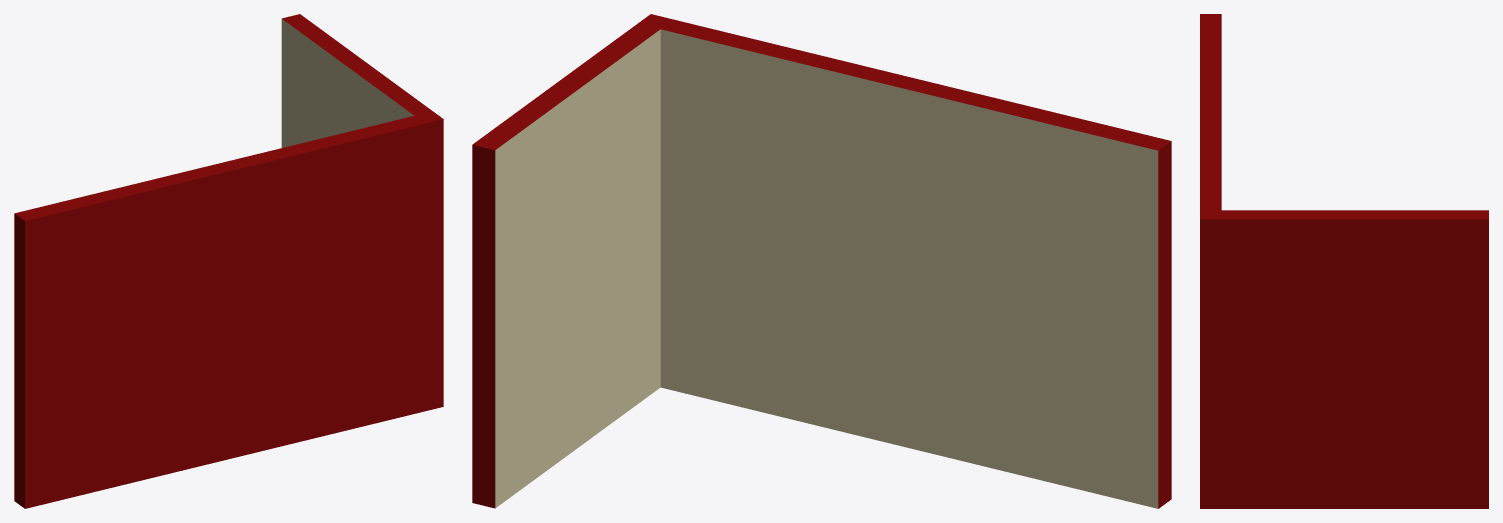
The model's file is Wall 5.fbx.
The picture shows the model from 3 angles, left to right: view 1: azimuth 30°, elevation 25°; view 2: azimuth 150°, elevation 25°; view 3: azimuth 270°, elevation 25°; orthographic projection. The views are drawn at different scales.
Parts seen in each view (by area): view 1: wall 5; view 2: wall 5; view 3: wall 5.
Boxes of the visible parts, x1,y1,x2,y2 form: wall 5: (14, 14, 443, 508); wall 5: (472, 14, 1171, 508); wall 5: (1200, 14, 1488, 508).
Bounding box in the file's own units: 410 × 269 × 243.
2 materials, 2 textured.
